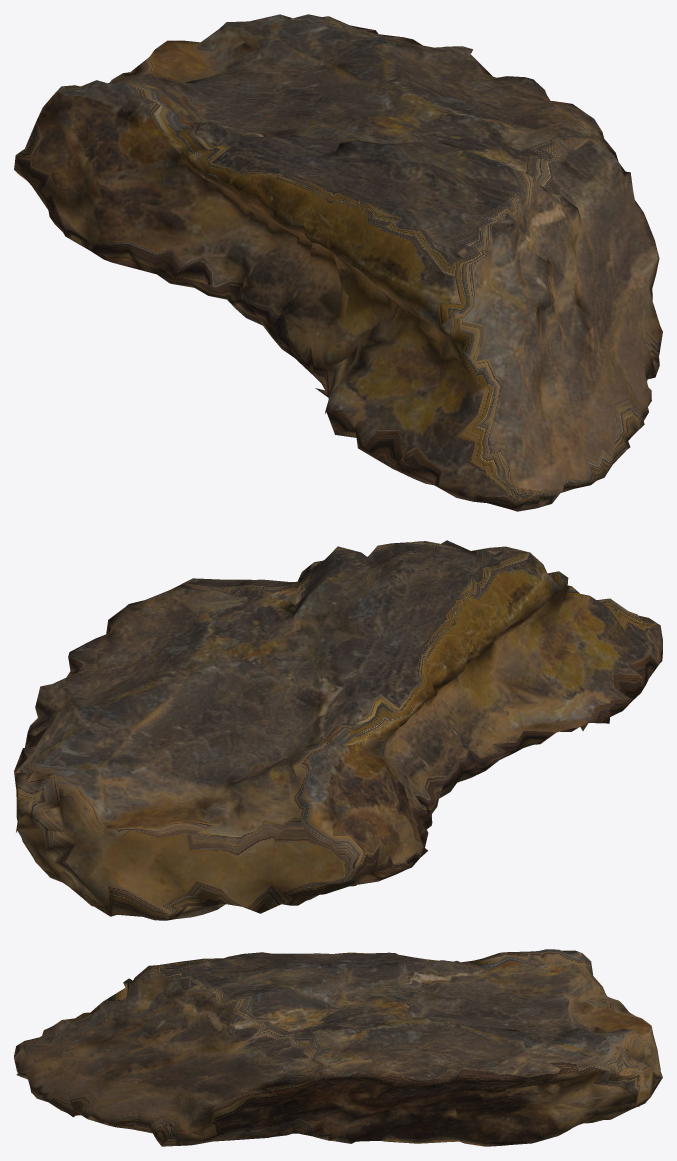
Rendered from river-rock.glb.
3 views of the same model, one above another, from view 1: azimuth 30°, elevation 25°; view 2: azimuth 150°, elevation 25°; view 3: azimuth 270°, elevation 25° (orthographic). The views are drawn at different scales.
Parts seen in each view (by area): view 1: Scanned river rock; view 2: Scanned river rock; view 3: Scanned river rock.
Part boxes in pixels (x1,y1,x2,y2): Scanned river rock: (14,14,662,511); Scanned river rock: (14,540,662,920); Scanned river rock: (14,949,662,1146).
Bounding box in the file's own units: 0.074 × 0.0328 × 0.144.
1 material, 1 textured.
